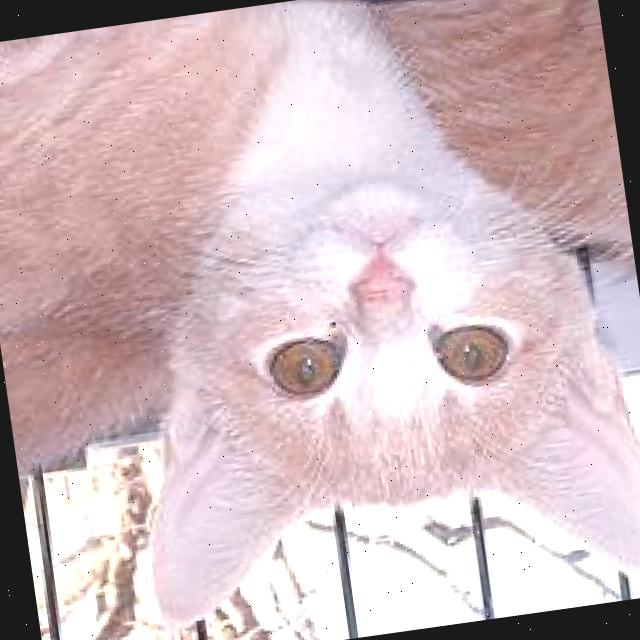cat-eye-normal: (416, 307, 530, 402), (252, 318, 362, 416)
